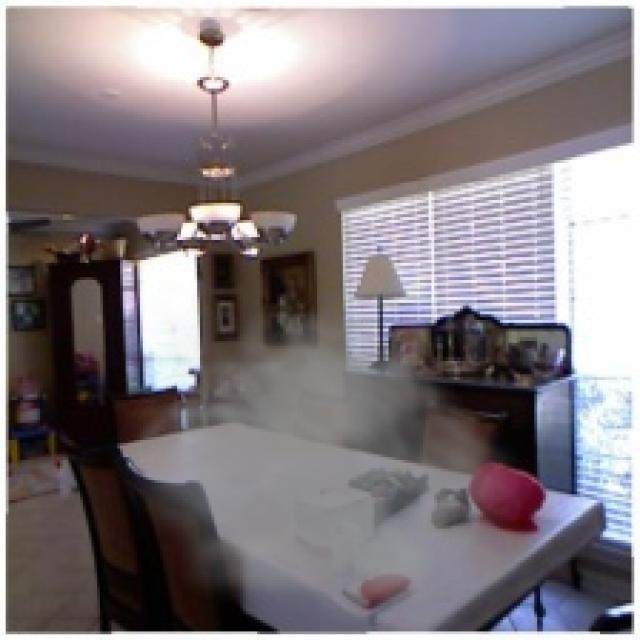smoke: (109, 274, 532, 623)
